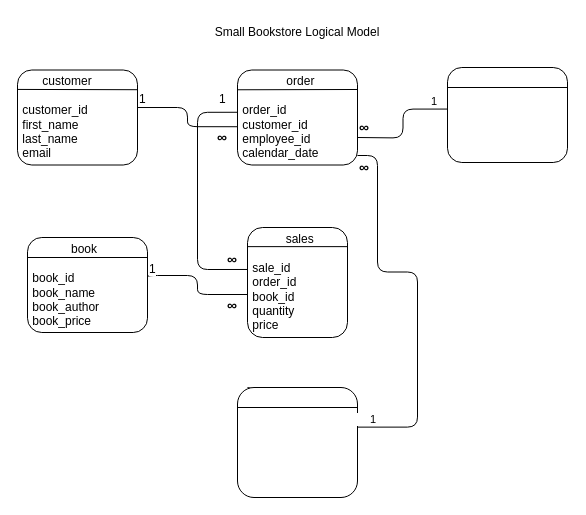
This 586x515 diagram has some shape labels left out. Here are the shapes that lost their labels. From the top down, the centre of each, then its label:
the point at 507,114: employee employee_id first_name last_name phone_number
the point at 297,442: date calendar_date year month day day_of_the_week
